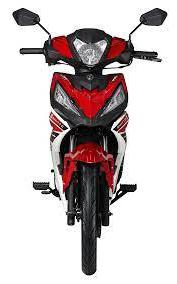motorcycle: (8, 6, 174, 279)
